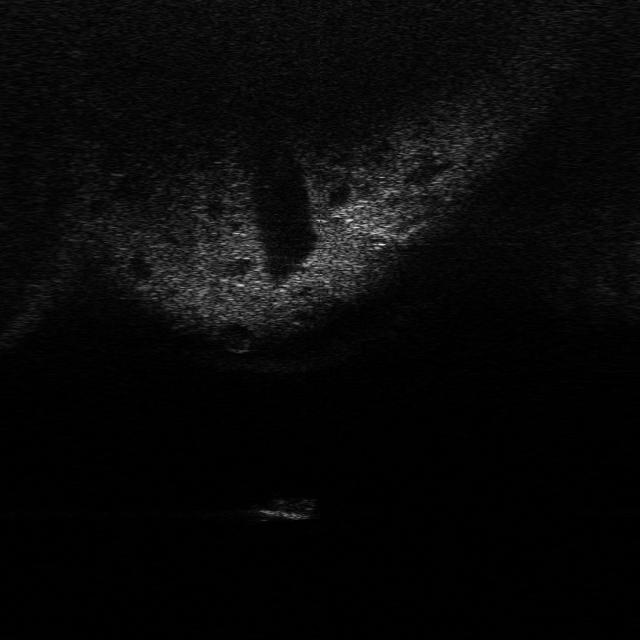cube: (246, 492, 318, 524)
